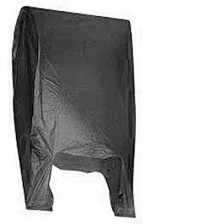plastic_bag: (8, 3, 142, 222)
